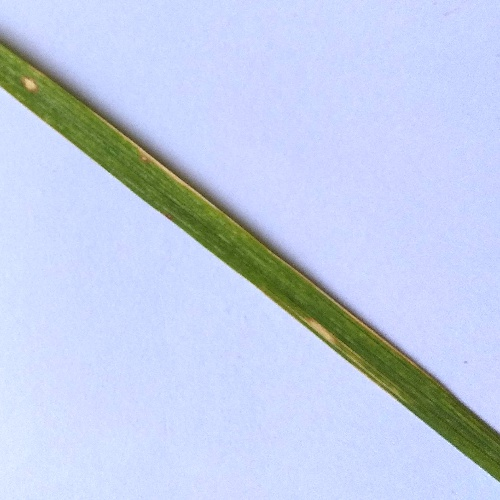Busuk Leher: (305, 312, 336, 347), (134, 138, 161, 170), (19, 66, 39, 98), (168, 160, 188, 190)
